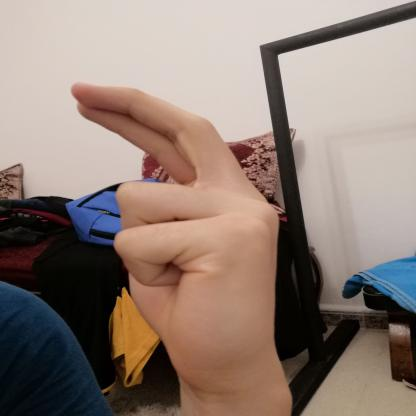ZAY: (54, 72, 297, 400)
